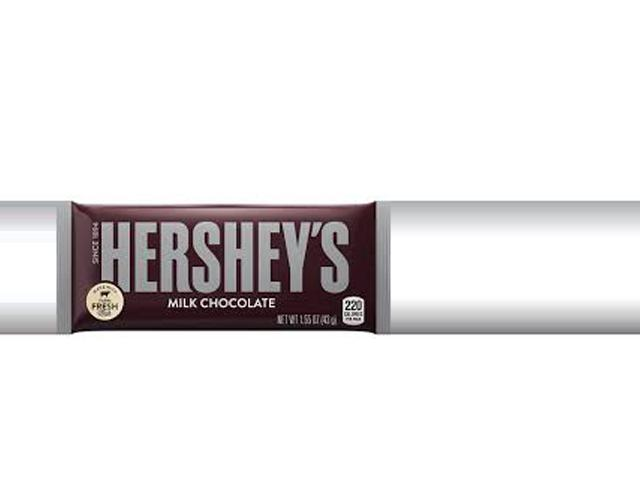chocolate: (62, 205, 389, 348)
